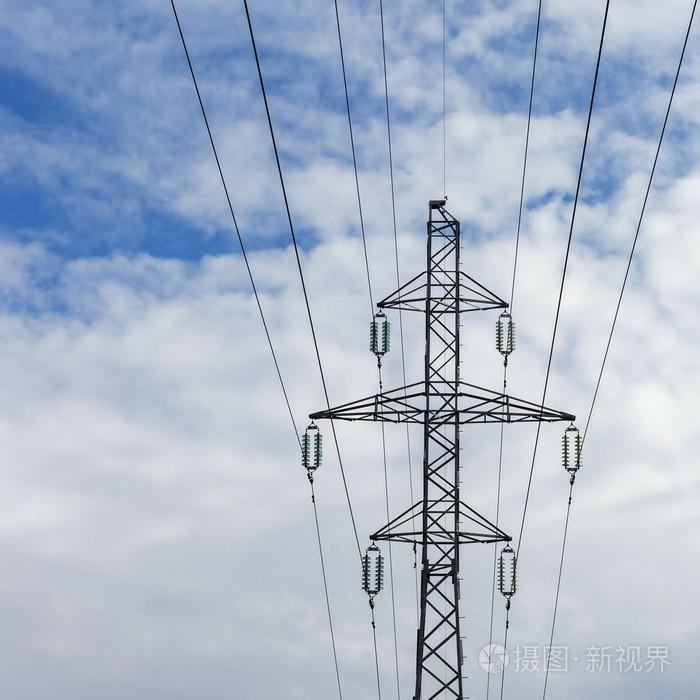power_tower: (303, 177, 584, 700)
